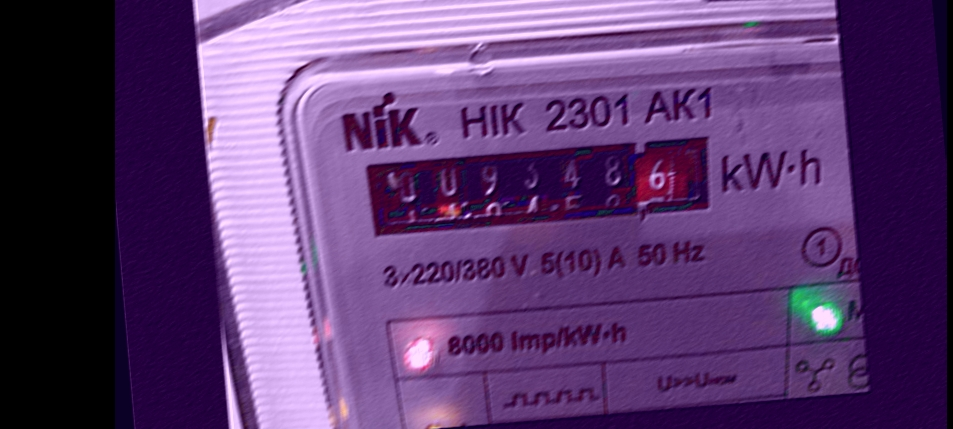0: (437, 162, 461, 200), (396, 168, 419, 204)
3: (519, 156, 543, 190)
4: (559, 153, 583, 191)
6: (646, 155, 671, 191)
8: (602, 151, 624, 187)
9: (480, 160, 501, 195)
screen: (343, 119, 735, 253)
